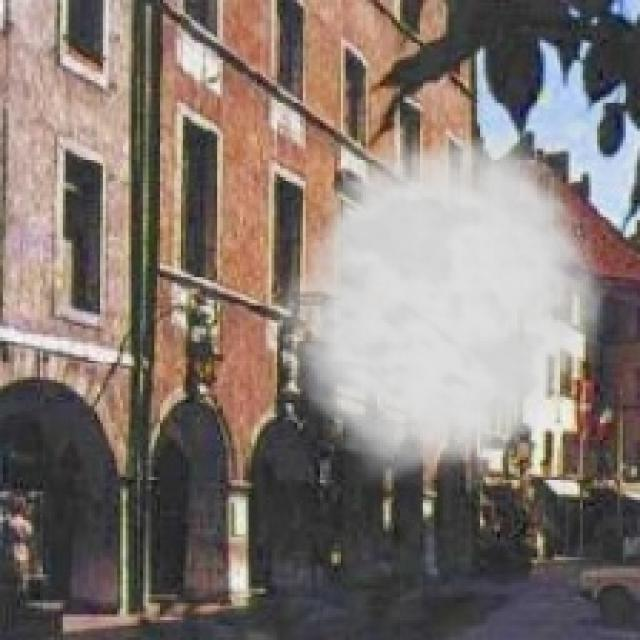smoke: (263, 114, 617, 489)
